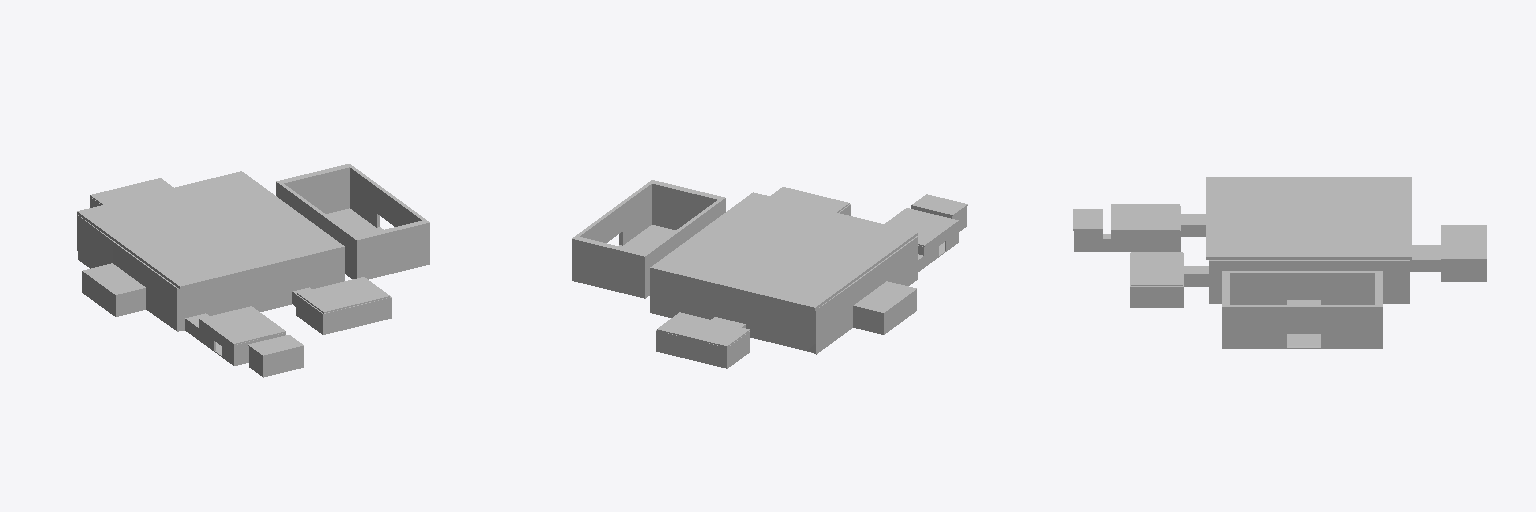
File: bigarea.obj
3 renders of one model, left to right at view 1: azimuth 30°, elevation 25°; view 2: azimuth 150°, elevation 25°; view 3: azimuth 270°, elevation 25°, orthographic.
Visible parts, largest first — view 1: polySurface24, pCube15, polySurface9 polySurface22, polySurface19 polySurface9, polySurface9 polySurface21, polySurface9 polySurface23; view 2: polySurface24, pCube15, polySurface9 polySurface21, polySurface9 polySurface22, polySurface19 polySurface9, polySurface9 polySurface23; view 3: polySurface24, pCube15, polySurface9 polySurface22, polySurface19 polySurface9, polySurface9 polySurface21, polySurface9 polySurface23.
Boxes of the visible parts, x1=… form: polySurface24: x1=77, y1=164, x2=429, y2=377; pCube15: x1=77, y1=171, x2=344, y2=289; polySurface9 polySurface22: x1=199, y1=306, x2=285, y2=344; polySurface19 polySurface9: x1=297, y1=277, x2=389, y2=313; polySurface9 polySurface21: x1=90, y1=178, x2=173, y2=204; polySurface9 polySurface23: x1=248, y1=335, x2=303, y2=356; polySurface24: x1=572, y1=180, x2=966, y2=368; pCube15: x1=650, y1=192, x2=917, y2=310; polySurface9 polySurface21: x1=657, y1=312, x2=749, y2=347; polySurface9 polySurface22: x1=885, y1=208, x2=958, y2=246; polySurface19 polySurface9: x1=771, y1=187, x2=849, y2=212; polySurface9 polySurface23: x1=911, y1=194, x2=967, y2=215; polySurface24: x1=1074, y1=206, x2=1486, y2=348; pCube15: x1=1206, y1=177, x2=1411, y2=259; polySurface9 polySurface22: x1=1111, y1=204, x2=1179, y2=230; polySurface19 polySurface9: x1=1131, y1=252, x2=1182, y2=285; polySurface9 polySurface21: x1=1441, y1=225, x2=1486, y2=260; polySurface9 polySurface23: x1=1073, y1=209, x2=1102, y2=230.
Bounding box in the file's own units: 18.47 × 2.92 × 22.83.